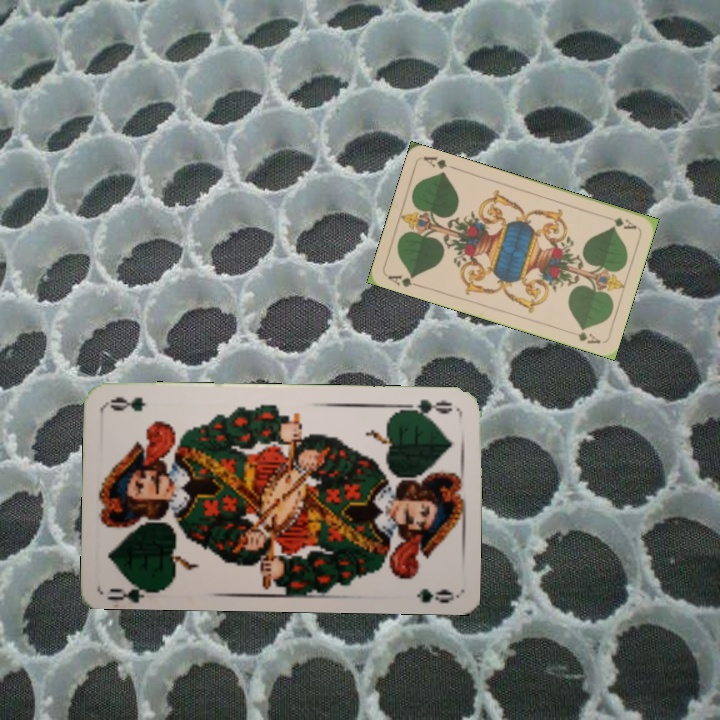GA: (600, 211, 639, 232), (384, 271, 424, 290)
GO: (105, 574, 164, 601), (398, 395, 455, 420)
